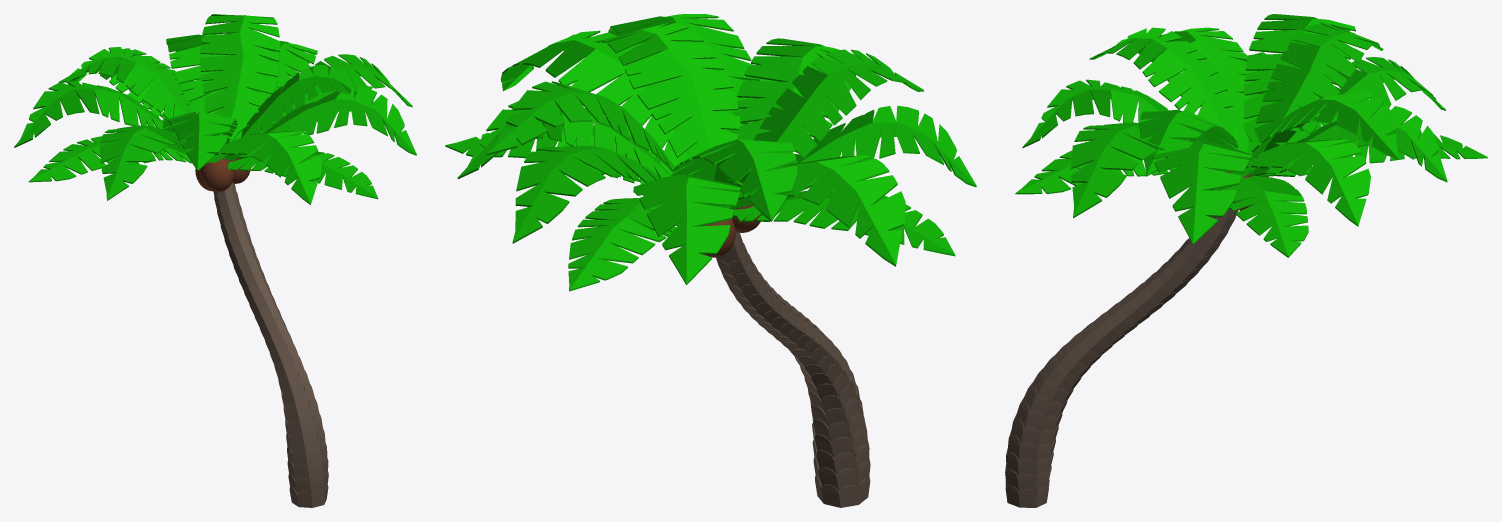
The model's file is palm-tree-test.gltf.
3 views of the same model, side by side, from view 1: azimuth 30°, elevation 25°; view 2: azimuth 150°, elevation 25°; view 3: azimuth 270°, elevation 25° (orthographic). The views are drawn at different scales.
Visible parts, largest first — view 1: leaves, tronc, noix de coco; view 2: leaves, tronc; view 3: leaves, tronc.
Part boxes in pixels (x1=…): leaves: x1=14, y1=14, x2=416, y2=204; tronc: x1=213, y1=182, x2=328, y2=507; noix de coco: x1=200, y1=158, x2=233, y2=191; leaves: x1=445, y1=14, x2=976, y2=291; tronc: x1=716, y1=232, x2=870, y2=507; leaves: x1=1015, y1=14, x2=1487, y2=257; tronc: x1=1005, y1=209, x2=1238, y2=507.
Size of the model in its own units: 15.7 by 15.63 by 15.64.
